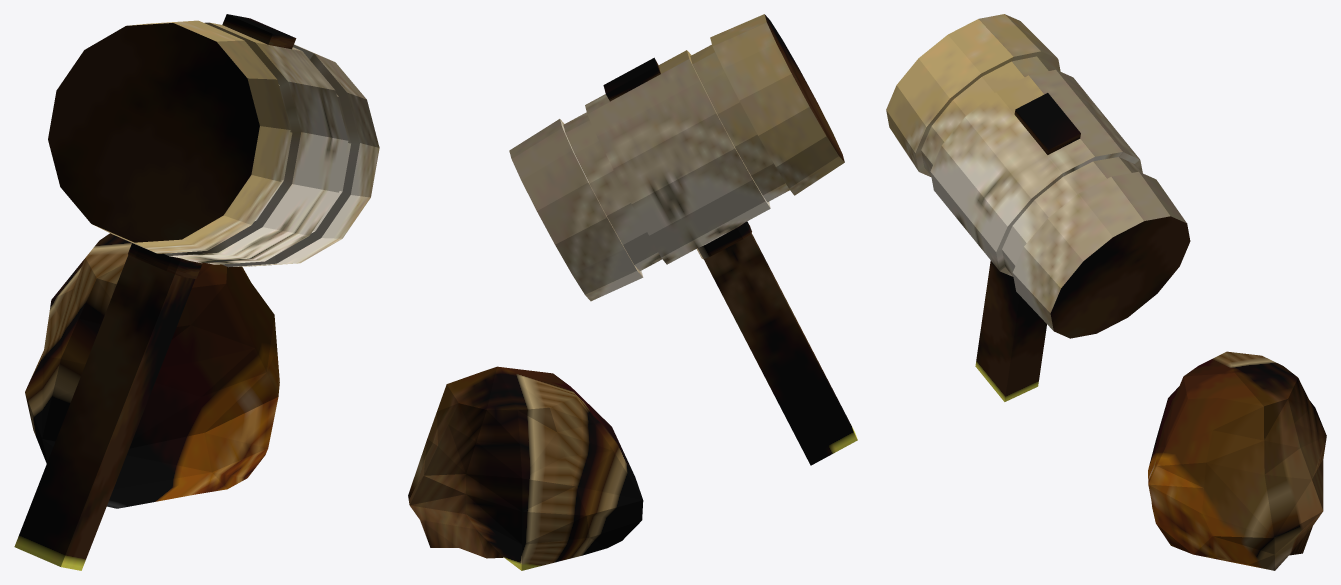
File: MC.ico.obj
The picture shows the model from 3 angles, left to right: view 1: azimuth 30°, elevation 25°; view 2: azimuth 150°, elevation 25°; view 3: azimuth 270°, elevation 25°; orthographic projection. The views are drawn at different scales.
Size of the model in its own units: 2.12 by 2.95 by 2.55.
